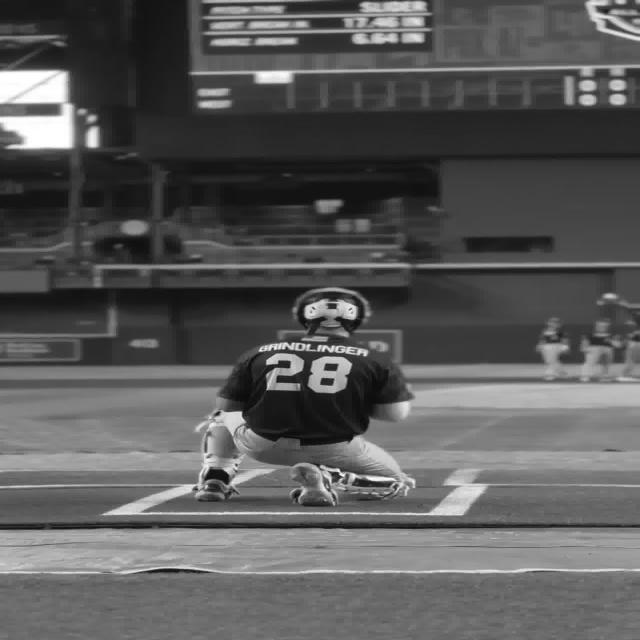shoe: (291, 462, 338, 506), (196, 479, 238, 501)
